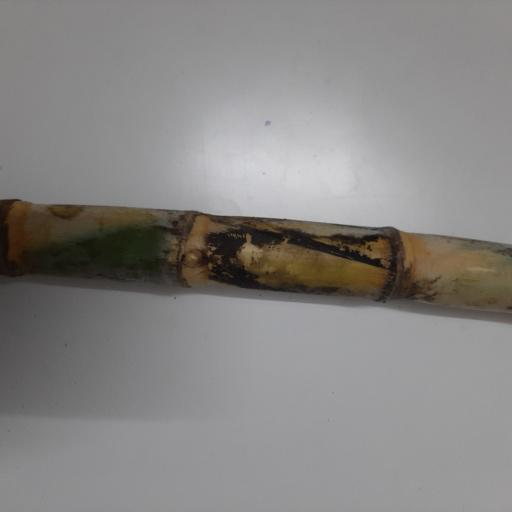Bud: (178, 246, 209, 270)
